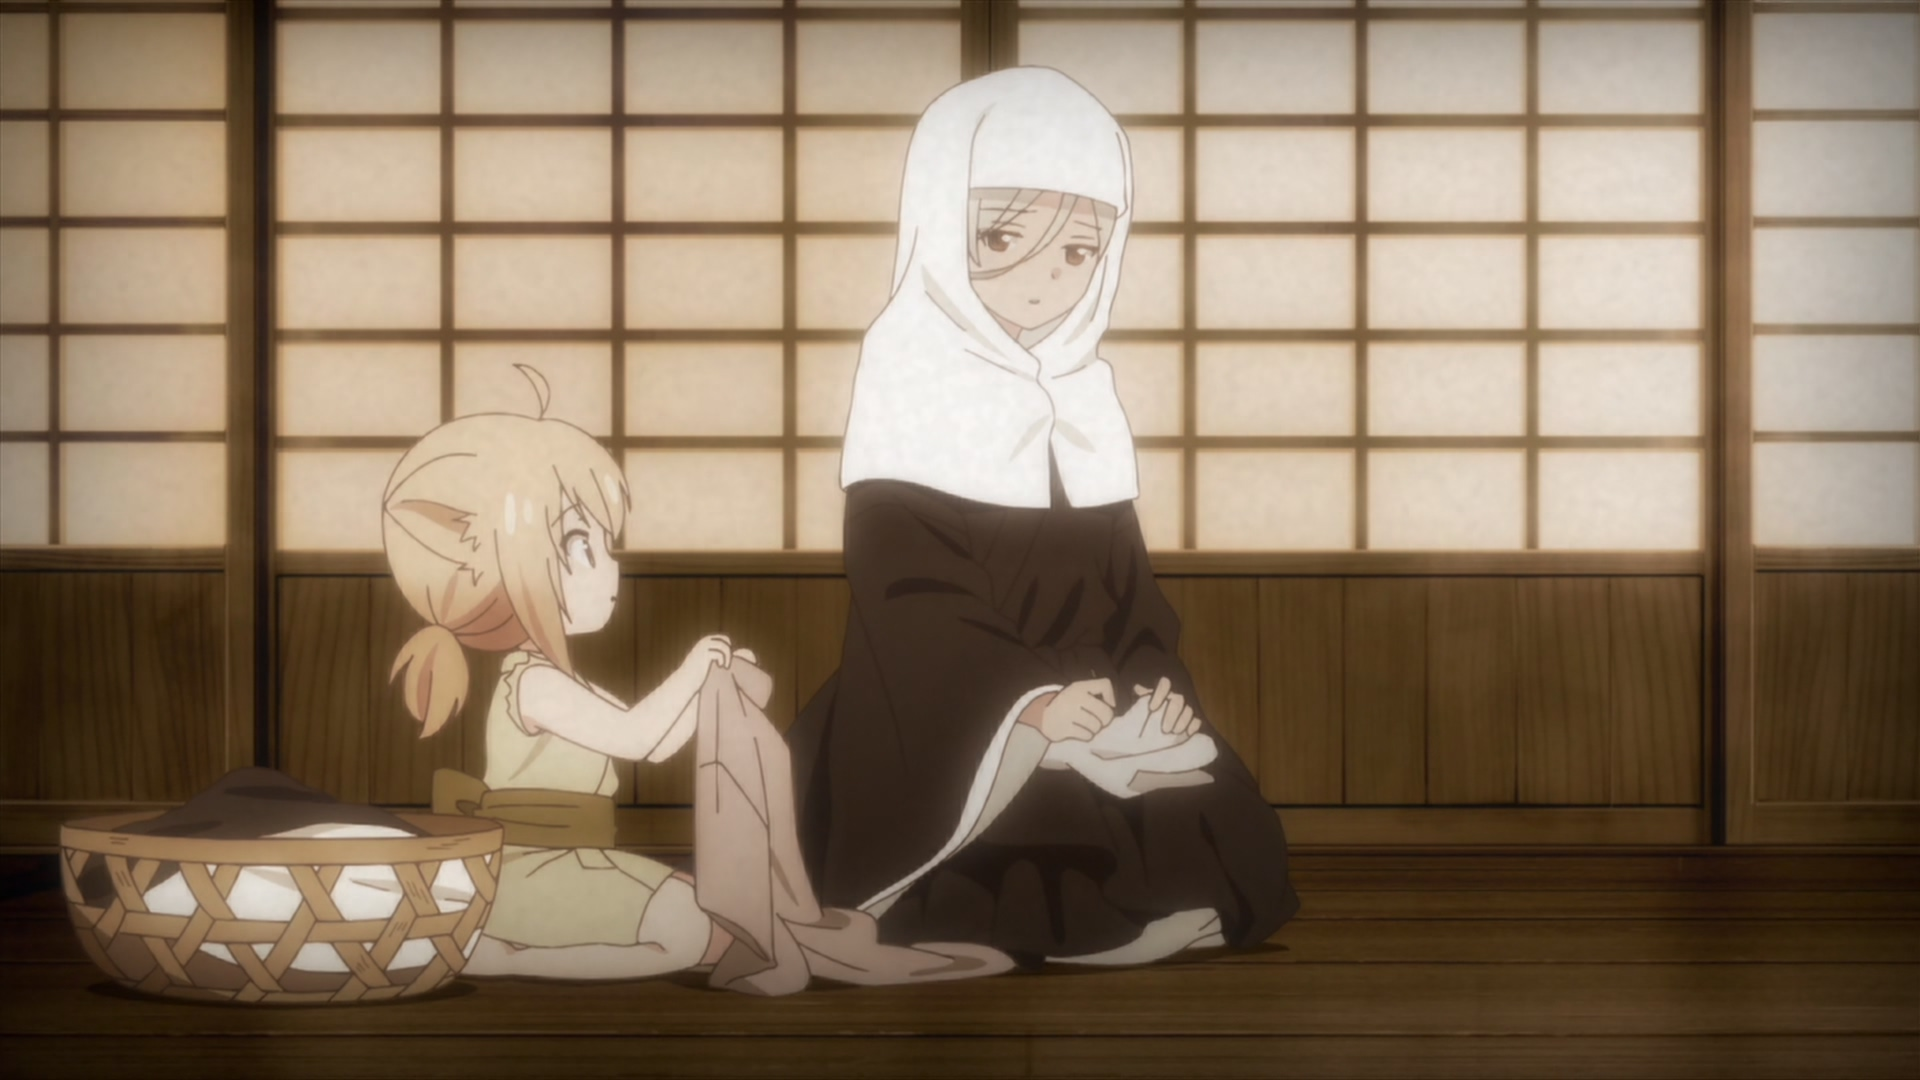八百比丘尼: (781, 65, 1296, 968)
柚: (381, 363, 756, 981)
